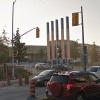Car: (30, 61, 99, 100)
